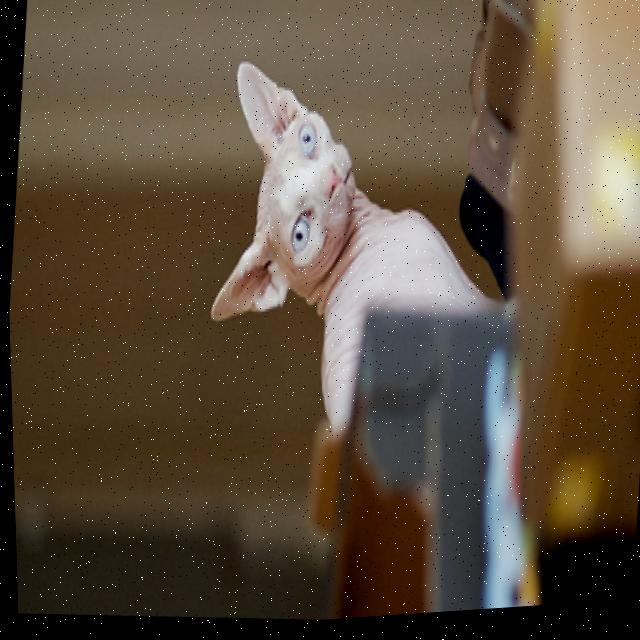Sphynx: (186, 36, 527, 474)
